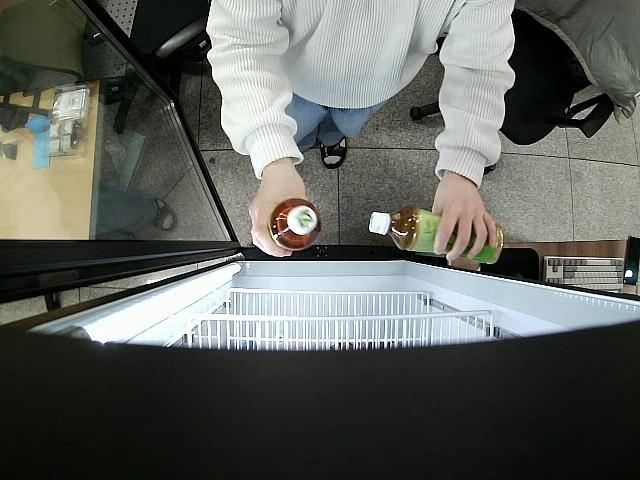19_17cha: (370, 206, 502, 266), (268, 198, 322, 252)
